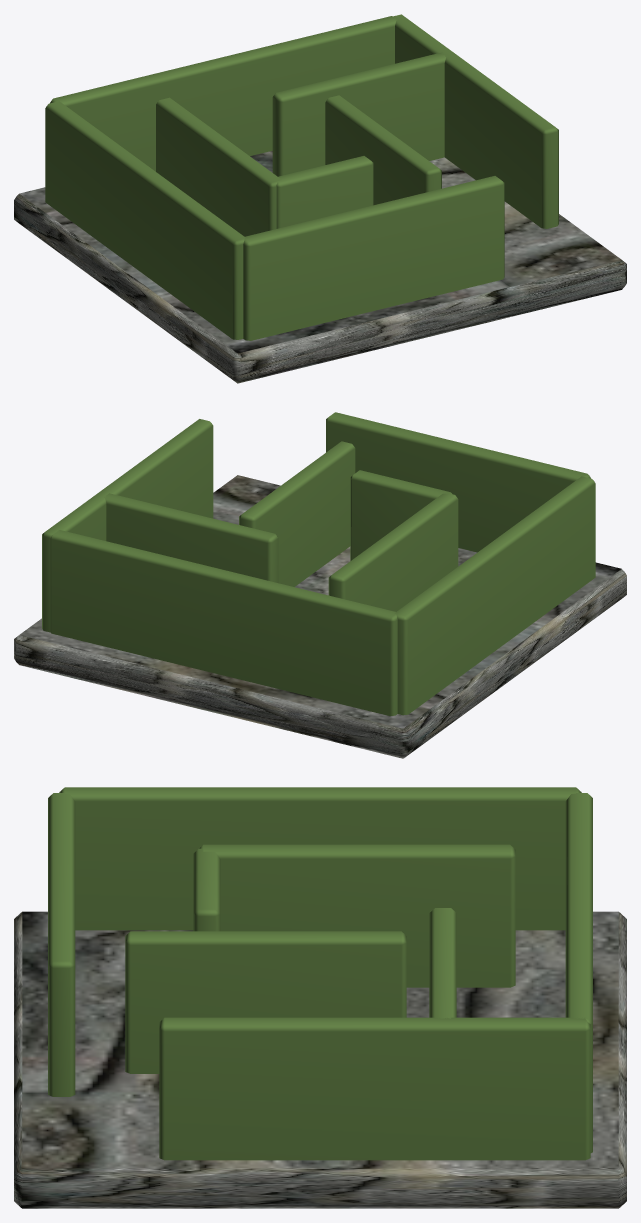
Rendered from env-site-maze-mobile.glb.
The picture shows the model from 3 angles, top to bottom: view 1: azimuth 30°, elevation 25°; view 2: azimuth 150°, elevation 25°; view 3: azimuth 270°, elevation 25°; orthographic projection. The views are drawn at different scales.
Visible parts, largest first — view 1: site maze · authored textured miniature; view 2: site maze · authored textured miniature; view 3: site maze · authored textured miniature.
Part boxes in pixels (bbox=[...]): site maze · authored textured miniature: bbox=[14, 14, 626, 383]; site maze · authored textured miniature: bbox=[14, 412, 626, 758]; site maze · authored textured miniature: bbox=[14, 787, 626, 1208].
Bounding box in the file's own units: 1.37 × 0.425 × 1.35.
Materials: 2 (1 with a texture image).
